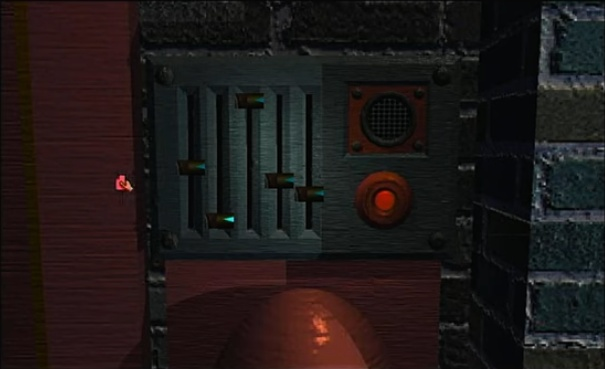Keep: (111, 171, 137, 194)
